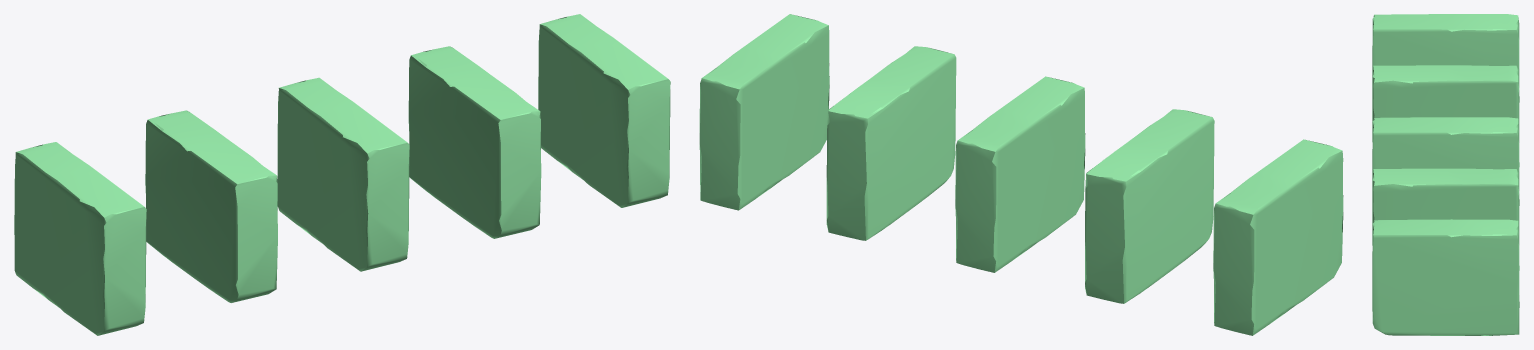
The model's file is stone_element_37e_line_x5.fbx.
The picture shows the model from 3 angles, left to right: view 1: azimuth 30°, elevation 25°; view 2: azimuth 150°, elevation 25°; view 3: azimuth 270°, elevation 25°; orthographic projection. The views are drawn at different scales.
Parts seen in each view (by area): view 1: stone_element_37e_line_x5_LOD0; view 2: stone_element_37e_line_x5_LOD0; view 3: stone_element_37e_line_x5_LOD0.
Boxes of the visible parts, box(x1,y1,x2,y2) form: stone_element_37e_line_x5_LOD0: box(14, 14, 670, 335); stone_element_37e_line_x5_LOD0: box(699, 14, 1343, 335); stone_element_37e_line_x5_LOD0: box(1372, 14, 1519, 335).
Size of what is drawn, in the model's own units: 441 by 94.04 by 123.
